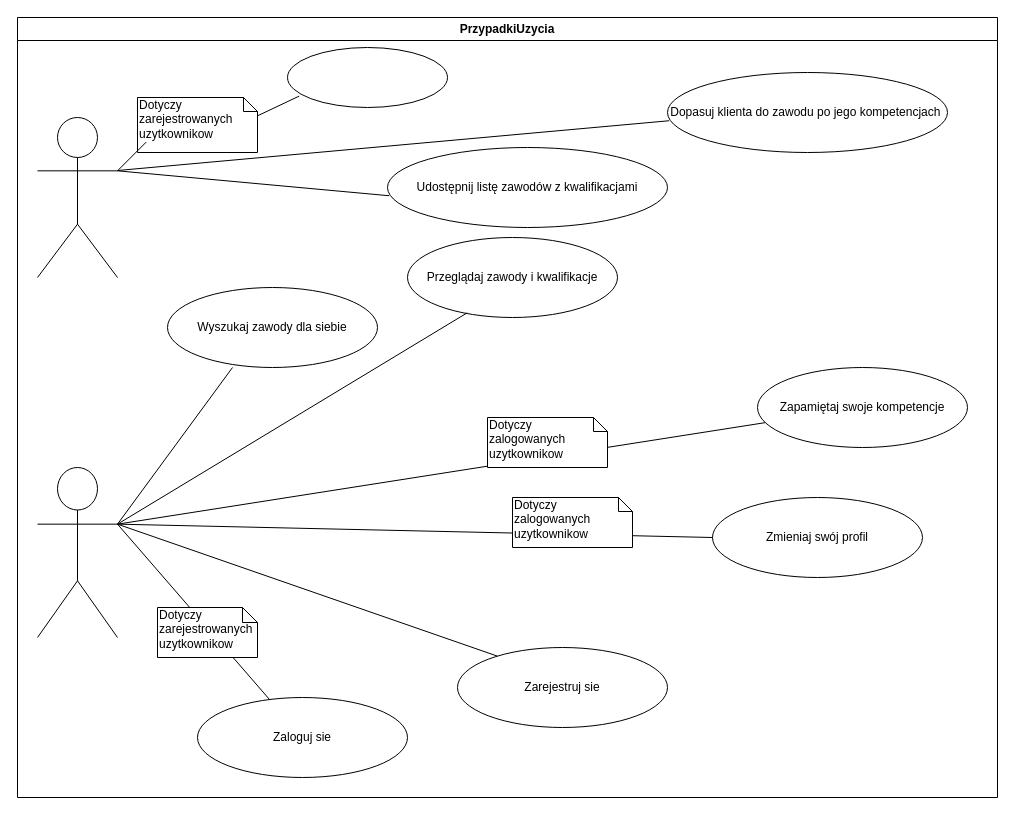
This 1015x815 diagram has some shape labels left out. The shapes that lost their labels are listed below. From the top down, each one's box as (x1, y1, x2, y2) in pixels, then its label:
(286, 46, 448, 108): Dodaj lub usuń klienta
(36, 116, 118, 278): Server
(36, 466, 118, 638): Klient
